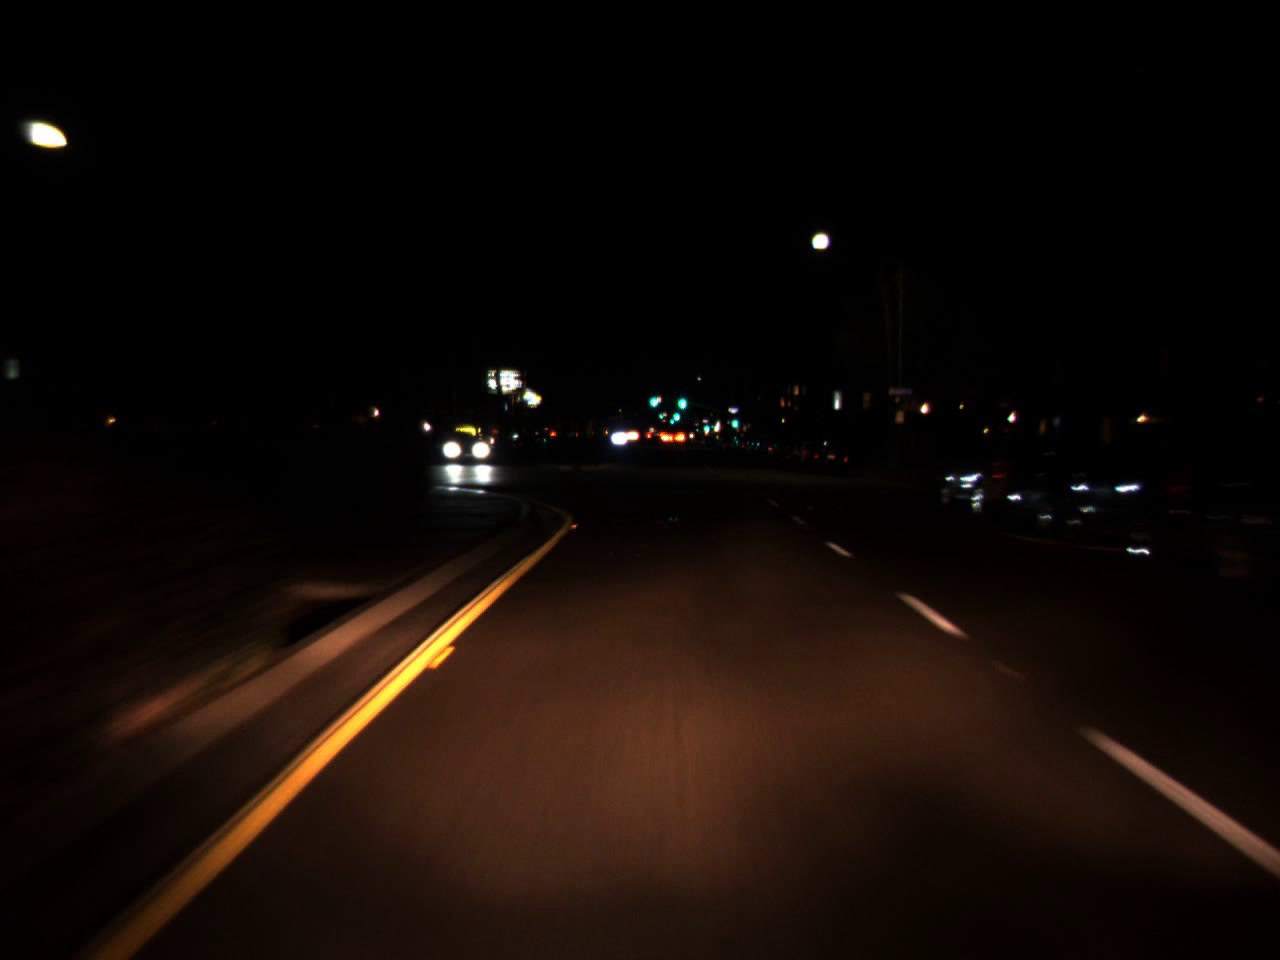go: (674, 388, 686, 412), (654, 401, 666, 422), (698, 413, 710, 434), (647, 387, 657, 408), (670, 403, 680, 424), (667, 404, 676, 425), (730, 411, 739, 429)
